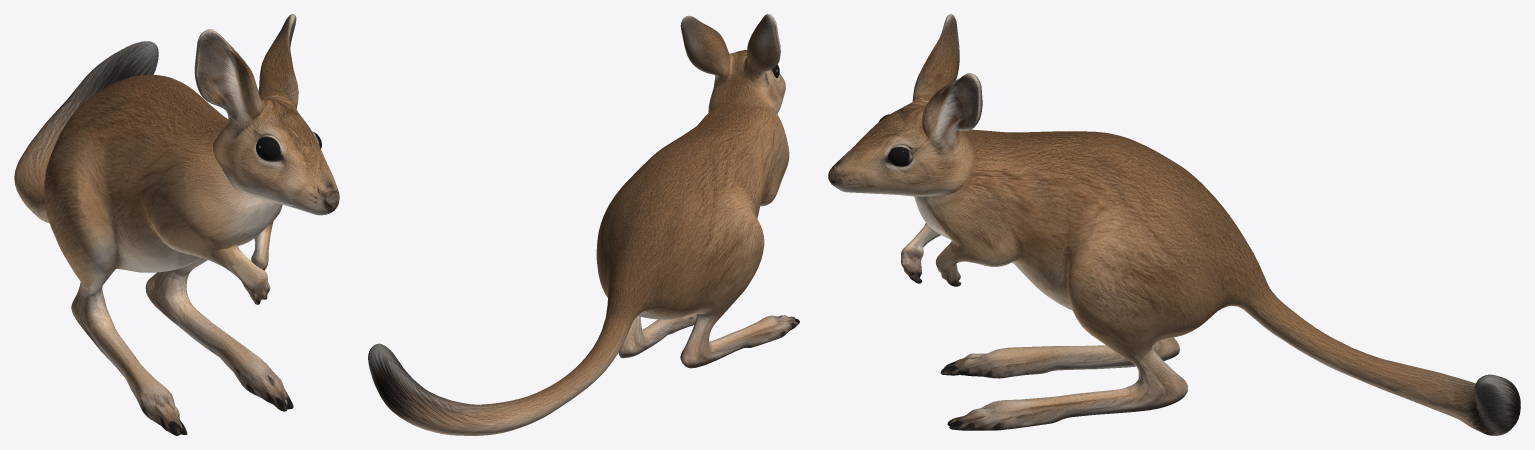
The model's file is south-african-springhare.glb.
The picture shows the model from 3 angles, left to right: view 1: azimuth 30°, elevation 25°; view 2: azimuth 150°, elevation 25°; view 3: azimuth 270°, elevation 25°; orthographic projection. The views are drawn at different scales.
Bounding box in the file's own units: 0.8902 × 1.14 × 1.9.
1 material, 1 textured.
